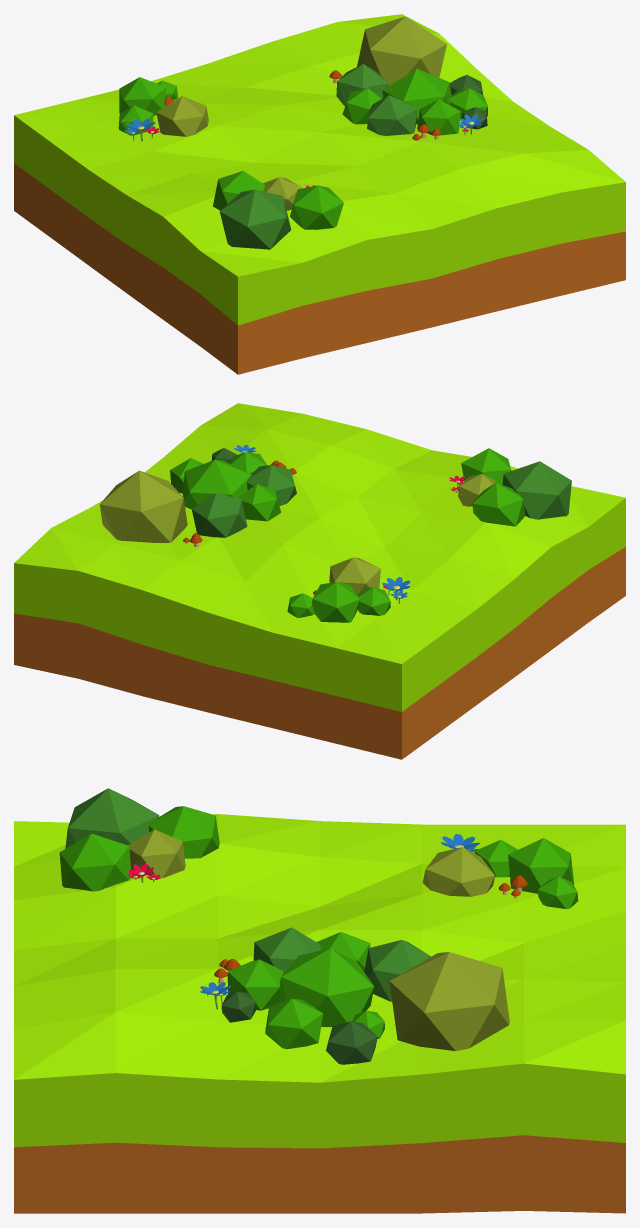
The model's file is TILE_BUISSONS_neutre-vegetal.fbx.
The picture shows the model from 3 angles, top to bottom: view 1: azimuth 30°, elevation 25°; view 2: azimuth 150°, elevation 25°; view 3: azimuth 270°, elevation 25°; orthographic projection. The views are drawn at different scales.
Parts seen in each view (by area): view 1: herbe.004; view 2: herbe.004; view 3: herbe.004.
Boxes of the visible parts, <box> form: herbe.004: <box>14,14,625,374</box>; herbe.004: <box>14,403,625,759</box>; herbe.004: <box>14,788,625,1213</box>.
Bounding box in the file's own units: 5 × 2 × 5.
